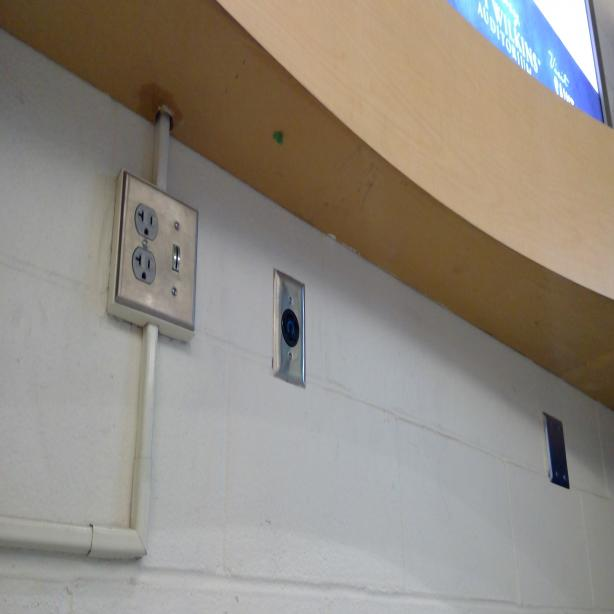typeb: (133, 207, 157, 240), (134, 248, 155, 284)
